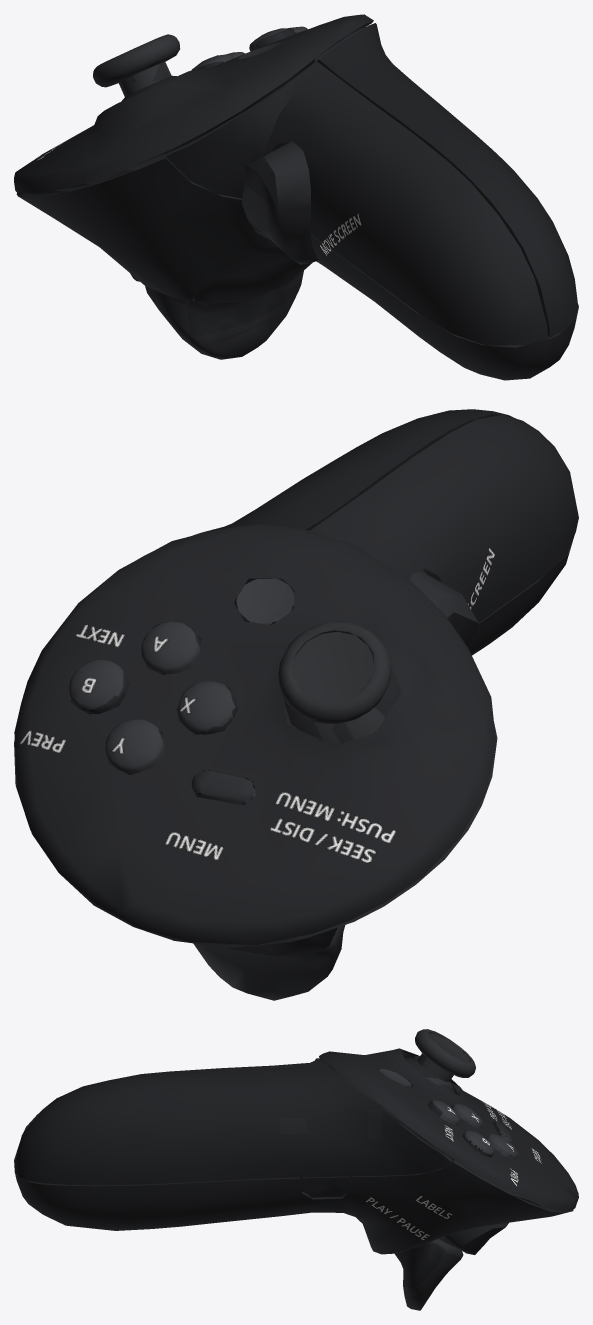
File: right_controller.glb
3 views of the same model, one above another, from view 1: azimuth 30°, elevation 25°; view 2: azimuth 150°, elevation 25°; view 3: azimuth 270°, elevation 25° (orthographic). The views are drawn at different scales.
Visible parts, largest first — view 1: body, battery_door, trigger, button_grip, thumbstick, button_a; view 2: body, thumbstick, battery_door, trigger, button_y, button_x, button_a, button_b, button_system, button_grip, button_menu; view 3: body, battery_door, trigger, thumbstick, button_a, button_y, button_x, button_b.
Boxes of the visible parts, <box> form: body: <box>14,14,578,380</box>; battery_door: <box>317,23,578,337</box>; trigger: <box>145,271,303,359</box>; button_grip: <box>242,141,318,264</box>; thumbstick: <box>93,34,180,101</box>; button_a: <box>249,28,295,51</box>; body: <box>14,415,578,956</box>; thumbstick: <box>278,621,401,744</box>; battery_door: <box>137,409,515,559</box>; trigger: <box>193,925,345,1000</box>; button_y: <box>105,719,164,774</box>; button_x: <box>177,681,238,734</box>; button_a: <box>141,621,200,674</box>; button_b: <box>69,659,128,713</box>; button_system: <box>235,578,293,624</box>; button_grip: <box>410,570,478,646</box>; button_menu: <box>191,770,255,804</box>; body: <box>14,1048,578,1254</box>; battery_door: <box>15,1065,452,1185</box>; trigger: <box>395,1239,463,1310</box>; thumbstick: <box>404,1029,475,1093</box>; button_a: <box>428,1099,460,1125</box>; button_y: <box>486,1133,517,1159</box>; button_x: <box>451,1103,483,1128</box>; button_b: <box>462,1130,494,1154</box>.
Bounding box in the file's own units: 0.0718 × 0.0692 × 0.1395.
1 material, 1 textured.
